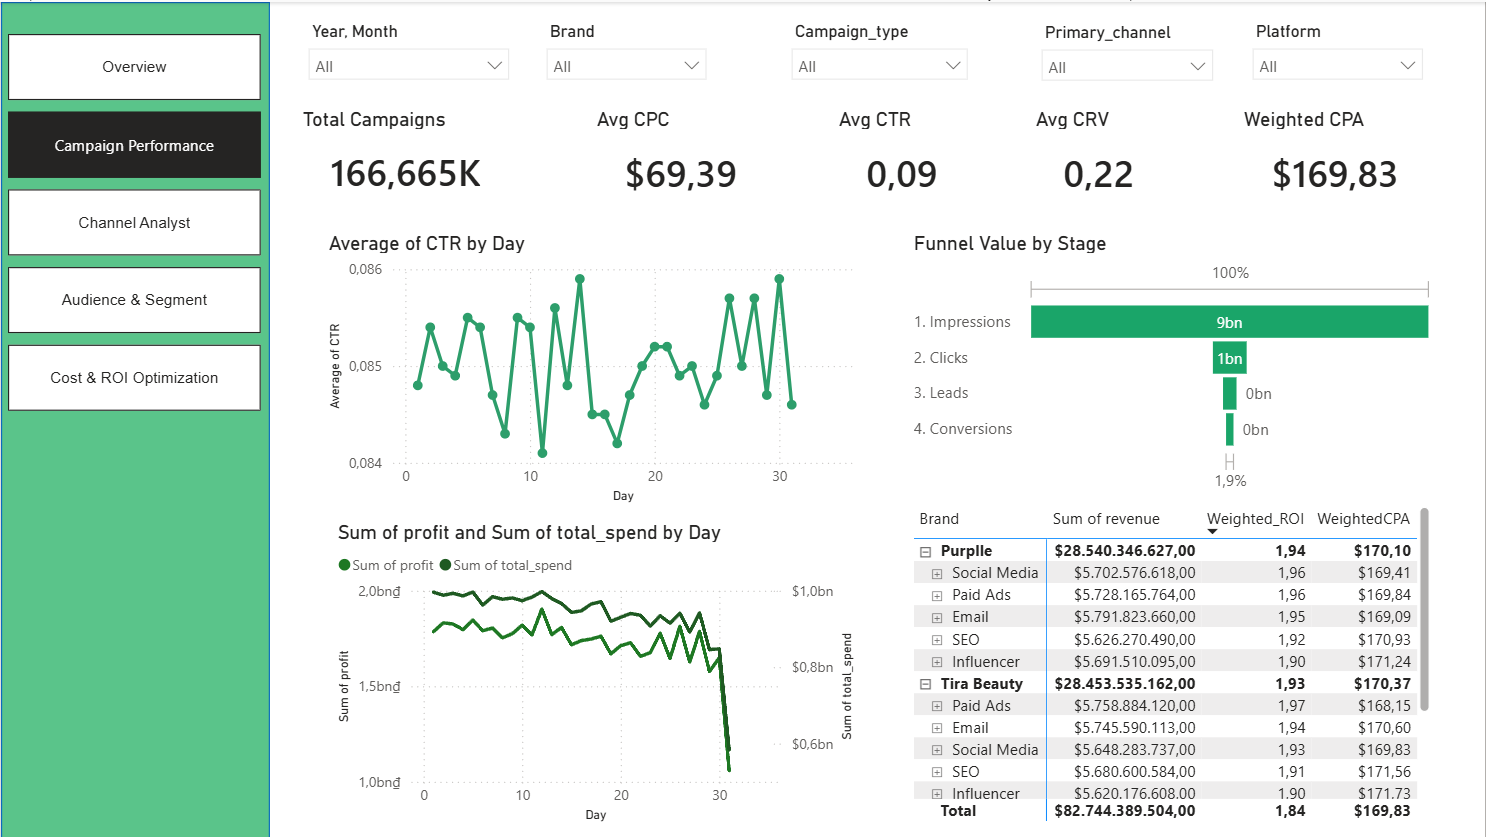

What the dashboard file says about the page in this screenshot:
{"tool":"powerbi","page":{"name":"Campaign Performance","canvas":[1280,720],"ordinal":1},"visuals":[{"type":"cardVisual","title":"Total Campaigns","fields":{"Data":["CountNonNull(FactMarketing.campaign_id)"]},"box":[255.3,90.6,206.1,88.8],"z":0},{"type":"cardVisual","title":"Avg CTR","fields":{"Data":["Avg(FactMarketing.CTR)"]},"box":[717.6,90.6,142.3,89.7],"z":1000},{"type":"cardVisual","title":"Avg CPC","fields":{"Data":["Avg(FactMarketing.CPC )"]},"box":[508.9,90.6,161.3,89.7],"z":2000},{"type":"cardVisual","title":"Weighted CPA","fields":{"Data":["FactMarketing.WeightedCPA"]},"box":[1067,90.6,171.6,89.7],"z":3000},{"type":"lineChart","fields":{"Category":["DimDate.campaign_date.Variation.Date Hierarchy.Day"],"Y":["Avg(FactMarketing.CTR)"]},"box":[277.7,197.5,462.3,238.9],"z":4000},{"type":"funnel","fields":{"Category":["Funnel Stage.Stage"],"Y":["Funnel Stage.Funnel Value"]},"box":[782.3,197.5,458.9,230.3],"z":5000},{"type":"pivotTable","fields":{"Rows":["DimBrand.brand","DimCampaignType.campaign_type","DimCustomerSegment.customer_segment"],"Values":["Sum(FactMarketing.revenue)","FactMarketing.Weight_ROI","FactMarketing.WeightedCPA"]},"box":[782.3,430.4,454.6,281.2],"z":6000},{"type":"lineChart","fields":{"Y":["Sum(FactMarketing.profit)"],"Y2":["Sum(FactMarketing.total_spend)"],"Category":["DimDate.campaign_date.Variation.Date Hierarchy.Day"]},"box":[285.5,446.8,454.6,264.8],"z":7000},{"type":"shape","box":[0,0,232,727.2],"z":8000},{"type":"slicer","fields":{"Values":["DimDate.campaign_date.Variation.Date Hierarchy.Year","DimDate.campaign_date.Variation.Date Hierarchy.Month"]},"box":[255.3,12.4,193.5,60.1],"z":9000},{"type":"slicer","fields":{"Values":["DimBrand.brand"]},"box":[460.2,12.4,158.1,71.6],"z":10000},{"type":"slicer","fields":{"Values":["DimCampaignType.campaign_type"]},"box":[672.2,12.4,172.3,71.6],"z":11000},{"type":"slicer","fields":{"Values":["DimPrimaryChannel.primary_channel"]},"box":[887.8,13.3,167.8,70.7],"z":12000},{"type":"slicer","fields":{"Values":["FactMarketing.Platform "]},"box":[1069.8,12.4,167,71.6],"z":13000},{"type":"cardVisual","title":"Avg CRV","fields":{"Data":["Avg(FactMarketing.CVR)"]},"box":[887.5,90.6,142.3,89.7],"z":14000},{"type":"pageNavigator","box":[6,27.6,218.2,325.2],"z":15000}]}

Visuals, with their boxes on the page's 1280x720 design canvas (x1, y1, x2, y2). These are canvas units, not pixel positions in the 1486x837 screenshot, which may show the page scaled, cropped or inside an application window:
"Total Campaigns" cardVisual: select_region(255, 91, 461, 179)
"Avg CTR" cardVisual: select_region(718, 91, 860, 180)
"Avg CPC" cardVisual: select_region(509, 91, 670, 180)
"Weighted CPA" cardVisual: select_region(1067, 91, 1239, 180)
lineChart - DimDate.campaign_date.Variation.Date Hierarchy.Day x Avg(FactMarketing.CTR): select_region(278, 198, 740, 436)
funnel - Funnel Stage.Stage x Funnel Stage.Funnel Value: select_region(782, 198, 1241, 428)
pivotTable - DimBrand.brand x DimCampaignType.campaign_type: select_region(782, 430, 1237, 712)
lineChart - Sum(FactMarketing.profit) x Sum(FactMarketing.total_spend): select_region(286, 447, 740, 712)
shape: select_region(0, 0, 232, 727)
slicer - DimDate.campaign_date.Variation.Date Hierarchy.Year x DimDate.campaign_date.Variation.Date Hierarchy.Month: select_region(255, 12, 449, 72)
slicer - DimBrand.brand: select_region(460, 12, 618, 84)
slicer - DimCampaignType.campaign_type: select_region(672, 12, 844, 84)
slicer - DimPrimaryChannel.primary_channel: select_region(888, 13, 1056, 84)
slicer - FactMarketing.Platform : select_region(1070, 12, 1237, 84)
"Avg CRV" cardVisual: select_region(888, 91, 1030, 180)
pageNavigator: select_region(6, 28, 224, 353)
